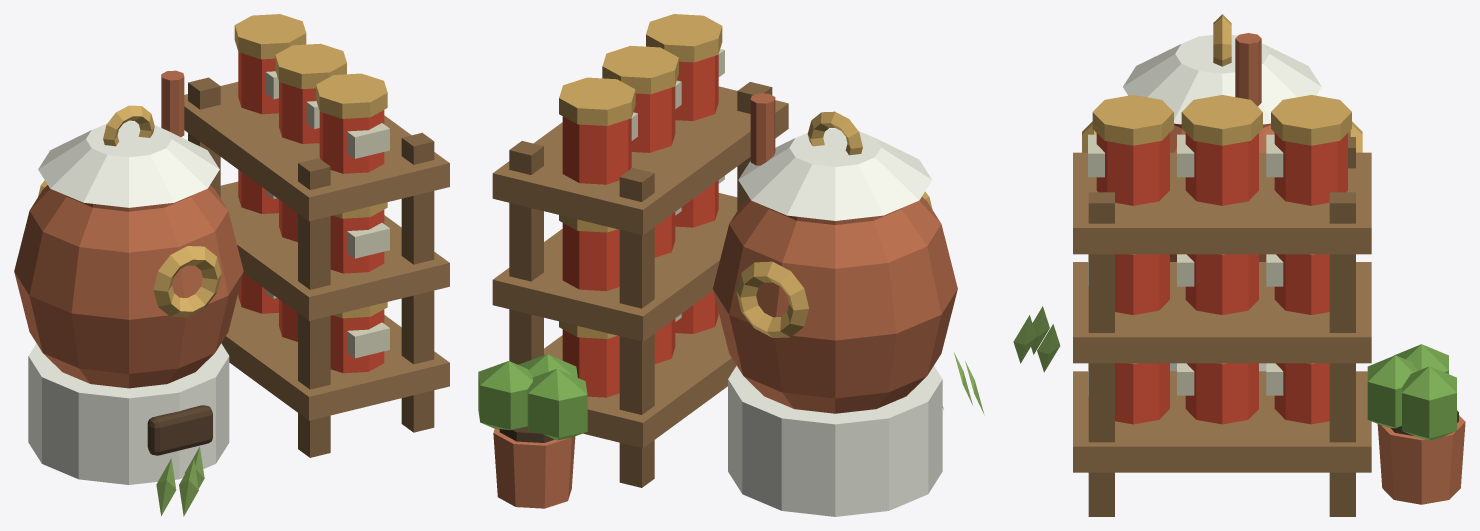
File: cannery.glb
The picture shows the model from 3 angles, left to right: view 1: azimuth 30°, elevation 25°; view 2: azimuth 150°, elevation 25°; view 3: azimuth 270°, elevation 25°; orthographic projection. The views are drawn at different scales.
Parts seen in each view (by area): view 1: Cannery_copper_kettle, Cannery_ceramic_stove, Cannery_rack_shelf.002, Cannery_rack_shelf, Cannery_rack_shelf.001, Cannery_ceramic_lid, Cannery_rack_post, Cannery_rack_post.002, Cannery_kettle_handle, Cannery_jar_lid.006, Cannery_red_preserves.006, idle_stove_mouth (+18 smaller); view 2: Cannery_copper_kettle, Cannery_ceramic_stove, Cannery_rack_shelf.002, Cannery_rack_shelf.001, Cannery_ceramic_lid, Cannery_rack_shelf, Cannery_rack_post.001, Cannery_rack_post.003, decor_Terracotta_planter, Cannery_red_preserves.008, decor_Living_leaves, Cannery_red_preserves.005 (+16 smaller); view 3: Cannery_rack_shelf.002, Cannery_rack_shelf.001, Cannery_rack_shelf, Cannery_ceramic_lid, Cannery_rack_post.002, Cannery_rack_post.003, decor_Terracotta_planter, Cannery_red_preserves.007, Cannery_red_preserves.008, Cannery_red_preserves.006, Cannery_red_preserves.001, Cannery_red_preserves.004 (+22 smaller).
Boxes of the visible parts, bbox=[...] form: Cannery_copper_kettle: bbox=[14, 185, 243, 388]; Cannery_ceramic_stove: bbox=[28, 343, 229, 484]; Cannery_rack_shelf.002: bbox=[184, 82, 449, 221]; Cannery_rack_shelf: bbox=[221, 294, 449, 420]; Cannery_rack_shelf.001: bbox=[220, 181, 449, 320]; Cannery_ceramic_lid: bbox=[38, 121, 219, 207]; Cannery_rack_post: bbox=[298, 158, 330, 457]; Cannery_rack_post.002: bbox=[401, 132, 434, 432]; Cannery_kettle_handle: bbox=[153, 246, 221, 317]; Cannery_jar_lid.006: bbox=[316, 73, 387, 118]; Cannery_red_preserves.006: bbox=[319, 110, 384, 173]; idle_stove_mouth: bbox=[147, 405, 212, 455]; Cannery_copper_kettle: bbox=[712, 196, 957, 413]; Cannery_ceramic_stove: bbox=[728, 365, 942, 516]; Cannery_rack_shelf.002: bbox=[492, 86, 788, 235]; Cannery_rack_shelf.001: bbox=[492, 193, 737, 341]; Cannery_ceramic_lid: bbox=[738, 128, 931, 220]; Cannery_rack_shelf: bbox=[544, 313, 736, 448]; Cannery_rack_post.001: bbox=[619, 167, 654, 487]; Cannery_rack_post.003: bbox=[509, 141, 543, 364]; decor_Terracotta_planter: bbox=[493, 429, 575, 508]; Cannery_red_preserves.008: bbox=[562, 116, 631, 184]; decor_Living_leaves: bbox=[527, 369, 587, 440]; Cannery_red_preserves.005: bbox=[562, 223, 619, 290]; Cannery_rack_shelf.002: bbox=[1073, 152, 1371, 254]; Cannery_rack_shelf.001: bbox=[1073, 262, 1371, 363]; Cannery_rack_shelf: bbox=[1073, 371, 1371, 472]; Cannery_ceramic_lid: bbox=[1123, 35, 1321, 124]; Cannery_rack_post.002: bbox=[1088, 192, 1114, 516]; Cannery_rack_post.003: bbox=[1329, 192, 1355, 516]; decor_Terracotta_planter: bbox=[1377, 415, 1465, 504]; Cannery_red_preserves.007: bbox=[1185, 133, 1258, 205]; Cannery_red_preserves.008: bbox=[1274, 133, 1347, 205]; Cannery_red_preserves.006: bbox=[1096, 133, 1169, 205]; Cannery_red_preserves.001: bbox=[1185, 363, 1258, 424]; Cannery_red_preserves.004: bbox=[1185, 254, 1258, 314].
Bounding box in the file's own units: 1.7 × 1.59 × 1.73.
